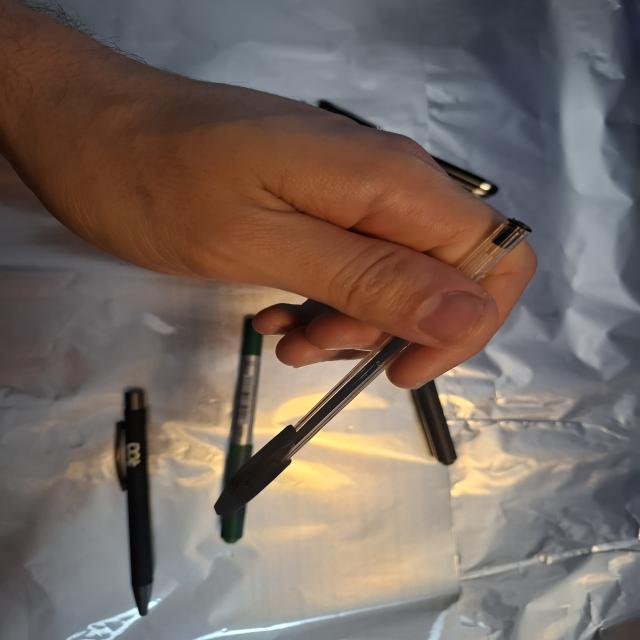glove_off: (5, 45, 544, 391)
